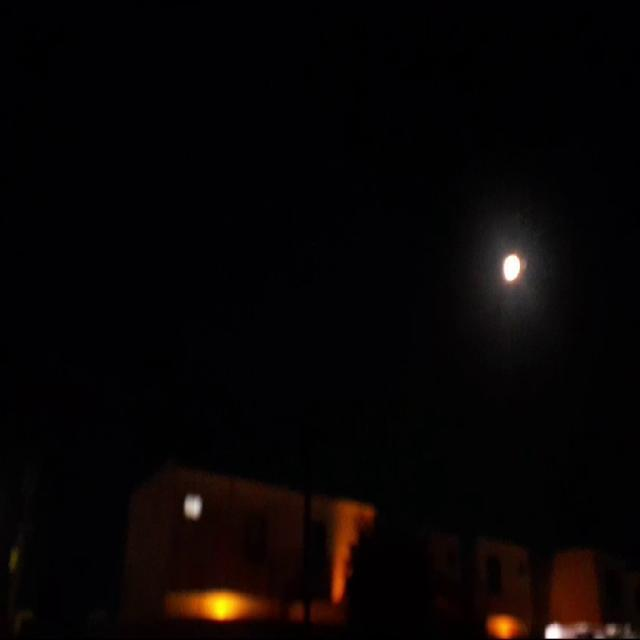moon: (495, 253, 518, 287)
